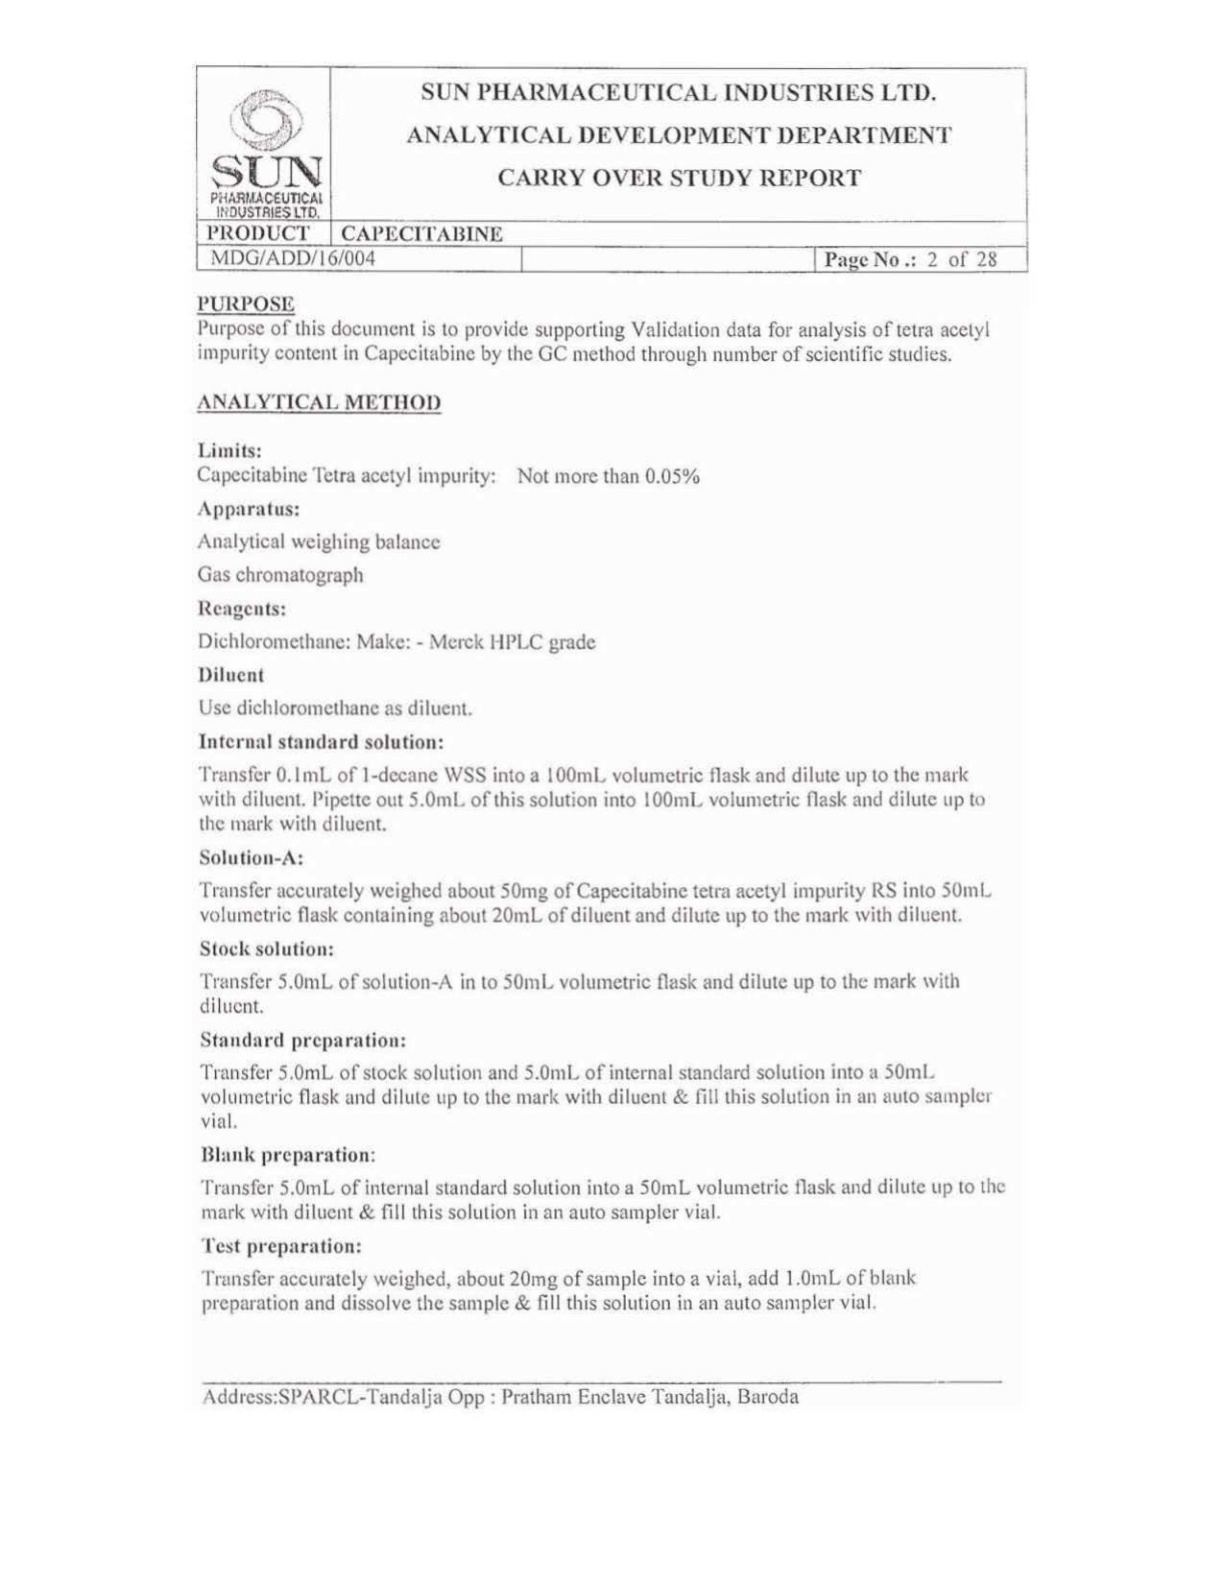merged_cells: (194, 64, 1029, 274)
